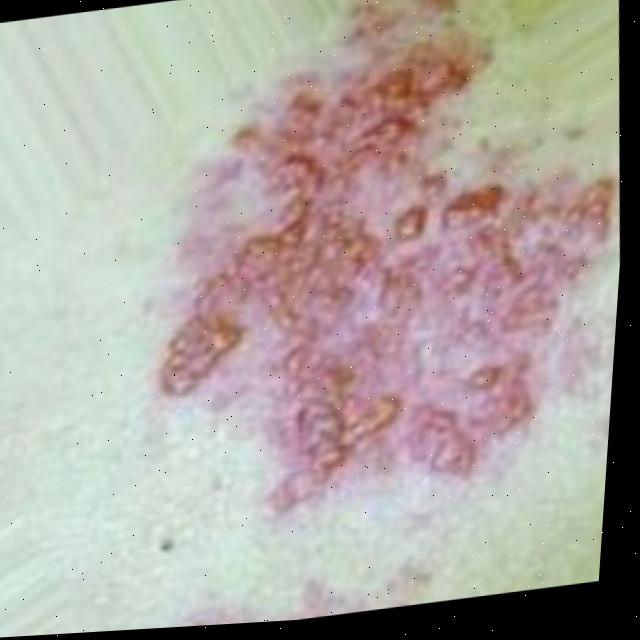Shingles: (116, 0, 640, 532)
